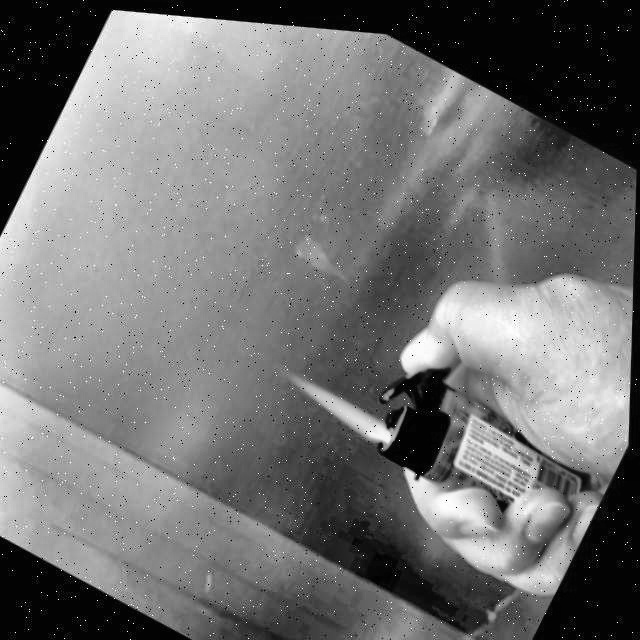Fire: (285, 363, 399, 440)
